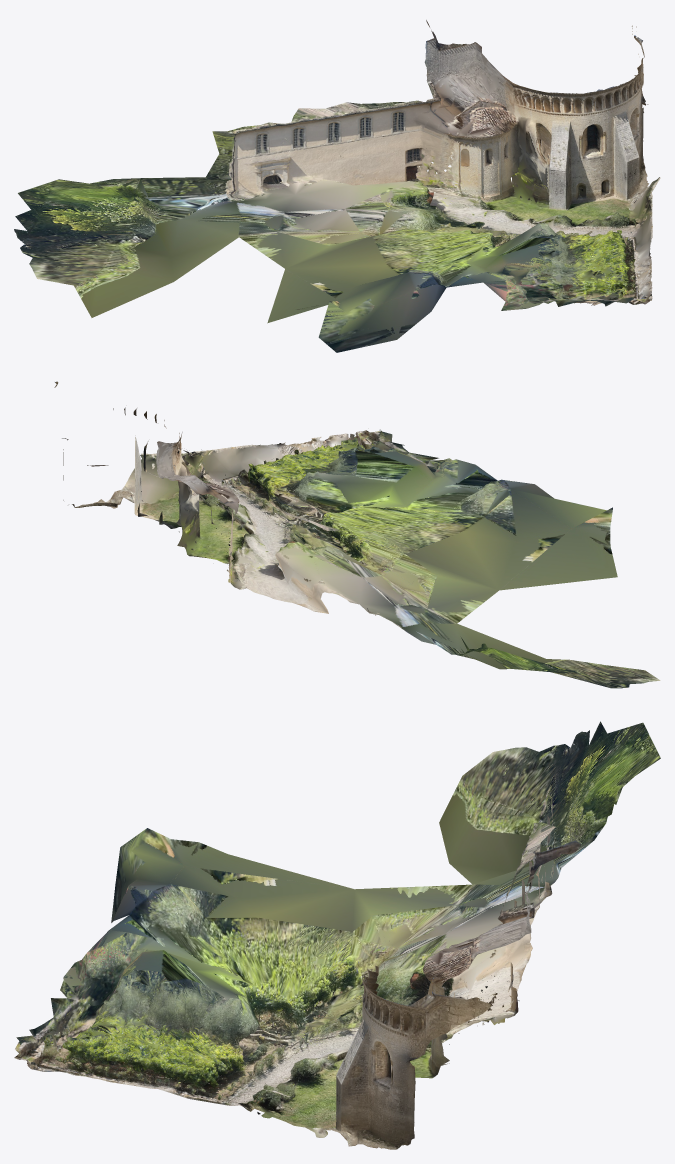
The model's file is medium.glb.
3 views of the same model, one above another, from view 1: azimuth 30°, elevation 25°; view 2: azimuth 150°, elevation 25°; view 3: azimuth 270°, elevation 25° (orthographic). The views are drawn at different scales.
Visible parts, largest first — view 1: medium.023; view 2: medium.023; view 3: medium.023.
Boxes of the visible parts, x1,y1,x2,y2 form: medium.023: (14,20,660,352); medium.023: (54,381,660,688); medium.023: (14,721,660,1149).
Bounding box in the file's own units: 67.79 × 19.01 × 45.88.
Materials: 1 (1 with a texture image).
